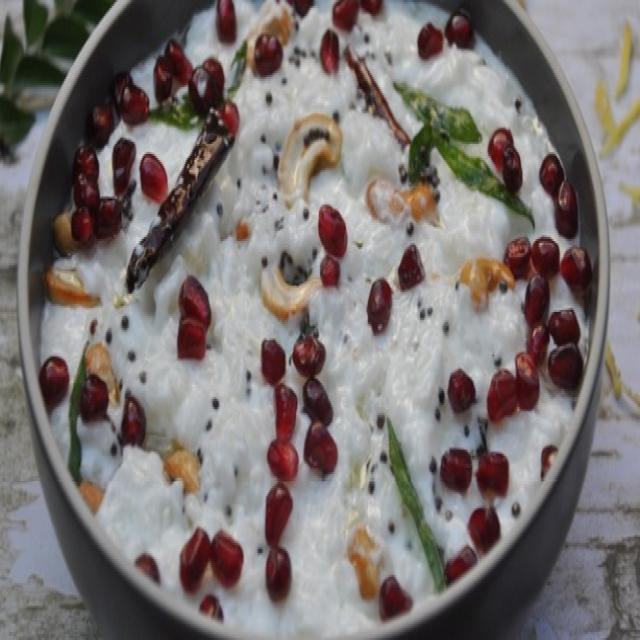CURD RICE: (39, 0, 592, 638)
